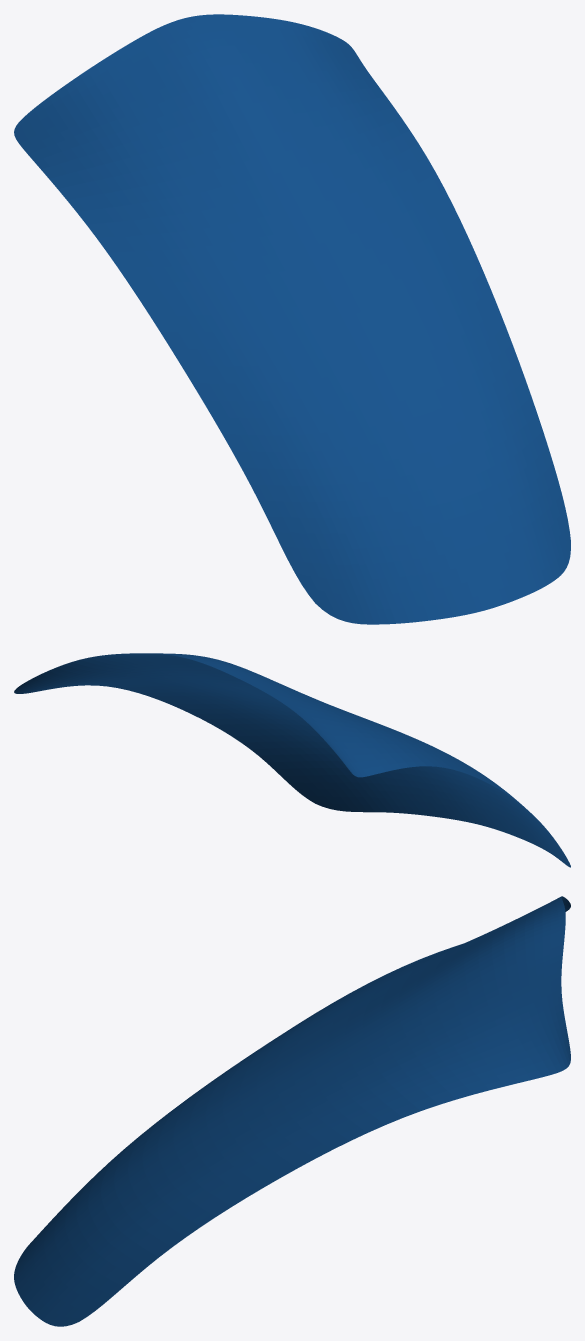
The model's file is Mech_WindowMid.fbx.
3 views of the same model, one above another, from view 1: azimuth 30°, elevation 25°; view 2: azimuth 150°, elevation 25°; view 3: azimuth 270°, elevation 25° (orthographic). The views are drawn at different scales.
Parts seen in each view (by area): view 1: Cube.031; view 2: Cube.031; view 3: Cube.031.
Part boxes in pixels (box(x1,y1,x2,y2)): Cube.031: box(14, 14, 570, 624); Cube.031: box(14, 653, 570, 867); Cube.031: box(14, 896, 570, 1326).
Size of the model in its own units: 148 by 157 by 221.
